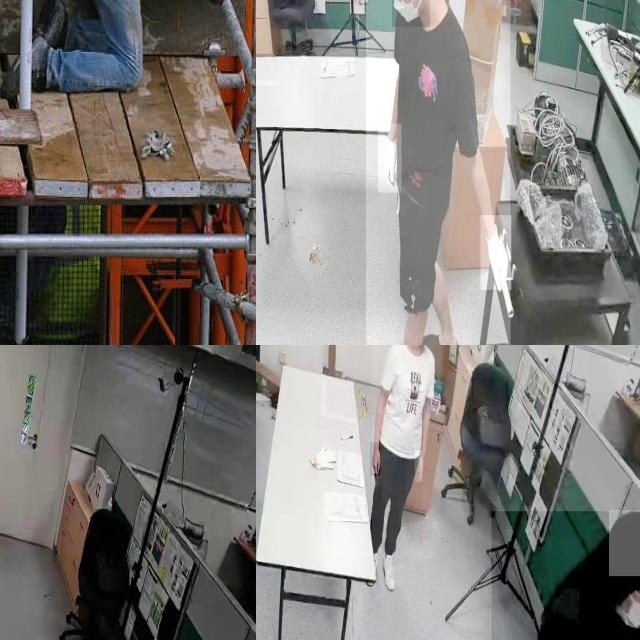face_mask: (618, 586, 640, 640), (392, 0, 430, 26)
hand_glove: (480, 215, 512, 291), (378, 124, 402, 193)
hand_noglove: (370, 442, 380, 476), (415, 450, 423, 483)
head_nohelmet: (609, 510, 640, 576)
person: (366, 0, 511, 345), (491, 511, 640, 640), (372, 345, 441, 559)
shoes: (414, 317, 463, 345), (380, 550, 398, 597)
